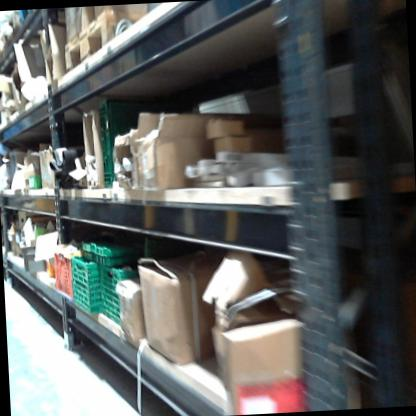pallet: (61, 9, 198, 88), (16, 9, 51, 33), (0, 13, 23, 42)
